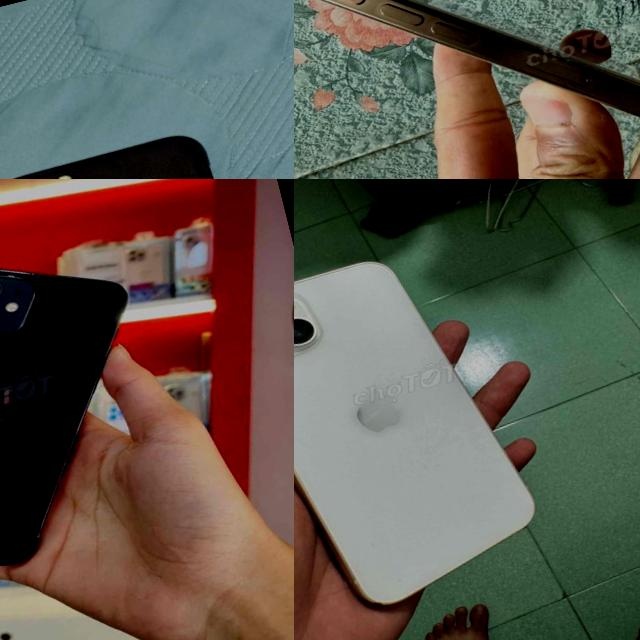gen_12_13: (294, 226, 556, 640), (0, 230, 185, 601)
gen_16: (294, 0, 640, 179)
gen_6: (0, 112, 294, 179)
